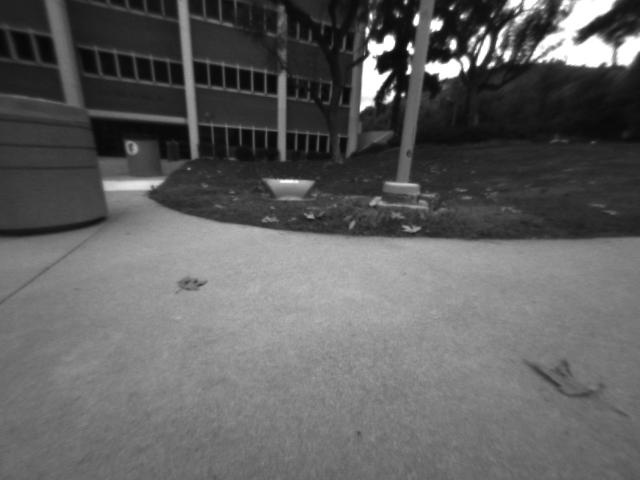trashcan: (1, 78, 107, 251), (122, 133, 161, 182)
